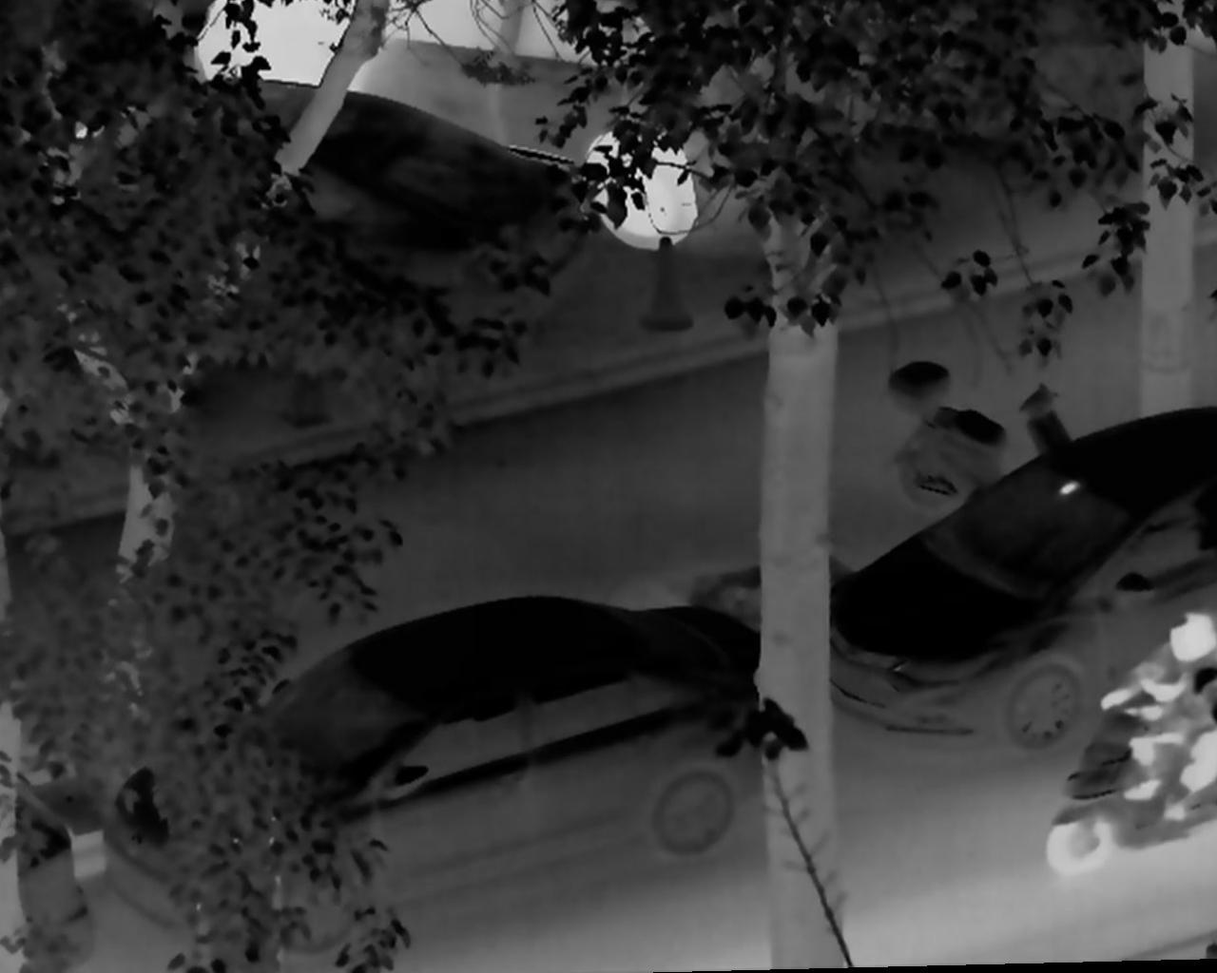person: (1091, 610, 1217, 835)
